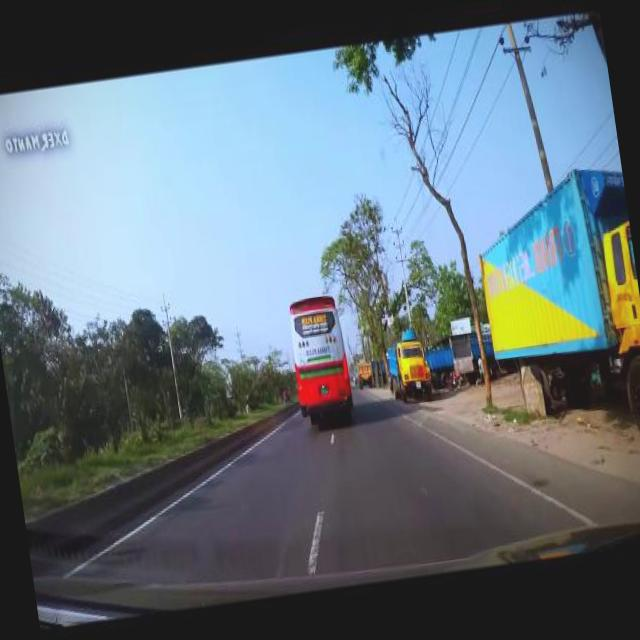bus: (286, 290, 356, 416)
motorcycle: (447, 366, 466, 388)
truck: (468, 159, 640, 459), (386, 334, 436, 398), (356, 358, 375, 386)
